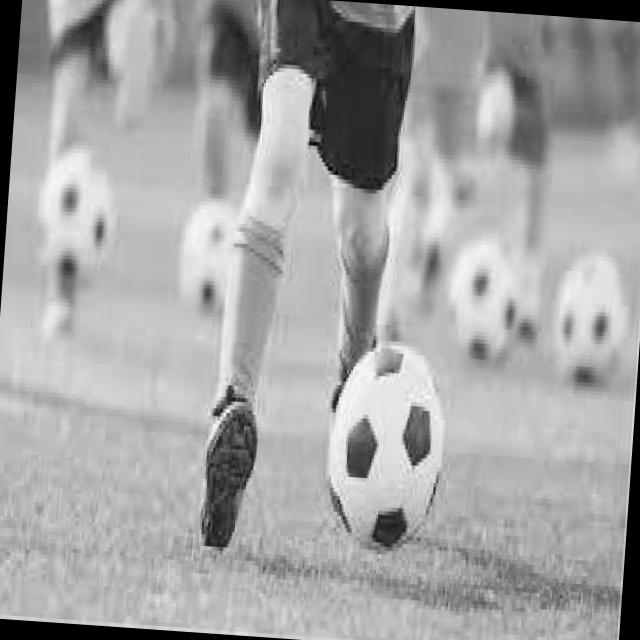Soccer Ball: (324, 341, 447, 554), (552, 250, 633, 385), (446, 235, 518, 358)
